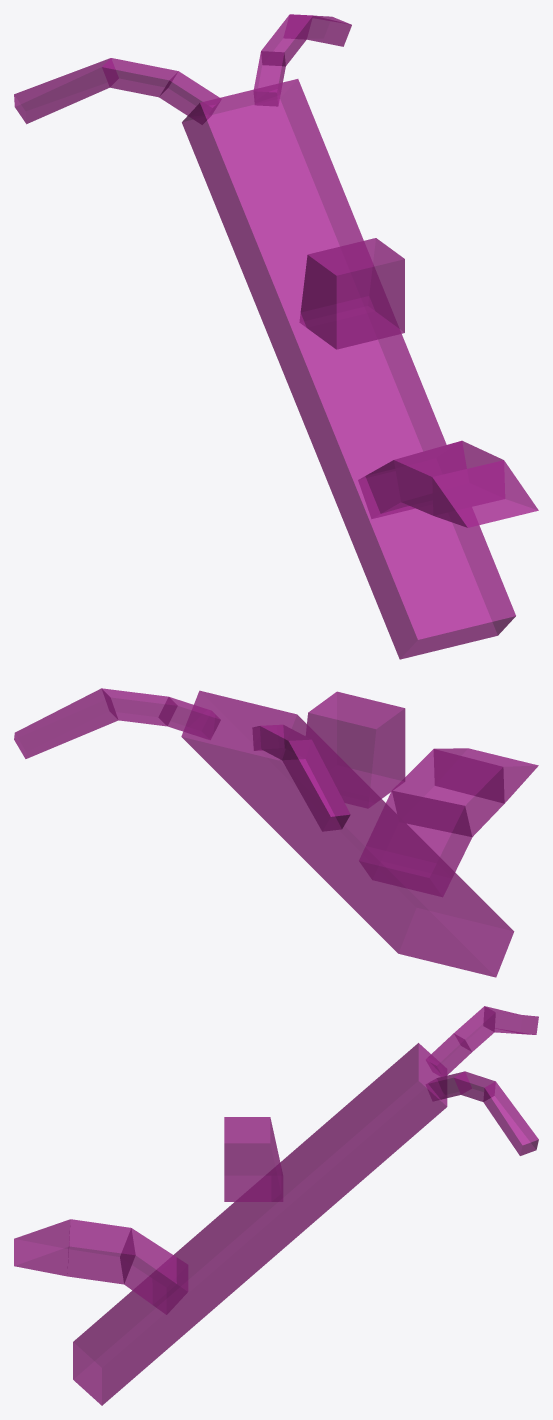
The model's file is SM_Veh_Motorbike_01_HandleBars_01_Collision.fbx.
3 views of the same model, one above another, from view 1: azimuth 30°, elevation 25°; view 2: azimuth 150°, elevation 25°; view 3: azimuth 270°, elevation 25° (orthographic). The views are drawn at different scales.
Visible parts, largest first — view 1: SM_Veh_Motorbike_01_HandleBars_01_Collision; view 2: SM_Veh_Motorbike_01_HandleBars_01_Collision; view 3: SM_Veh_Motorbike_01_HandleBars_01_Collision.
Part boxes in pixels (x1,y1,x2,y2): SM_Veh_Motorbike_01_HandleBars_01_Collision: (14, 14, 538, 659); SM_Veh_Motorbike_01_HandleBars_01_Collision: (14, 688, 538, 977); SM_Veh_Motorbike_01_HandleBars_01_Collision: (14, 1006, 538, 1405).
Size of the model in its own units: 106 by 129 by 181.
